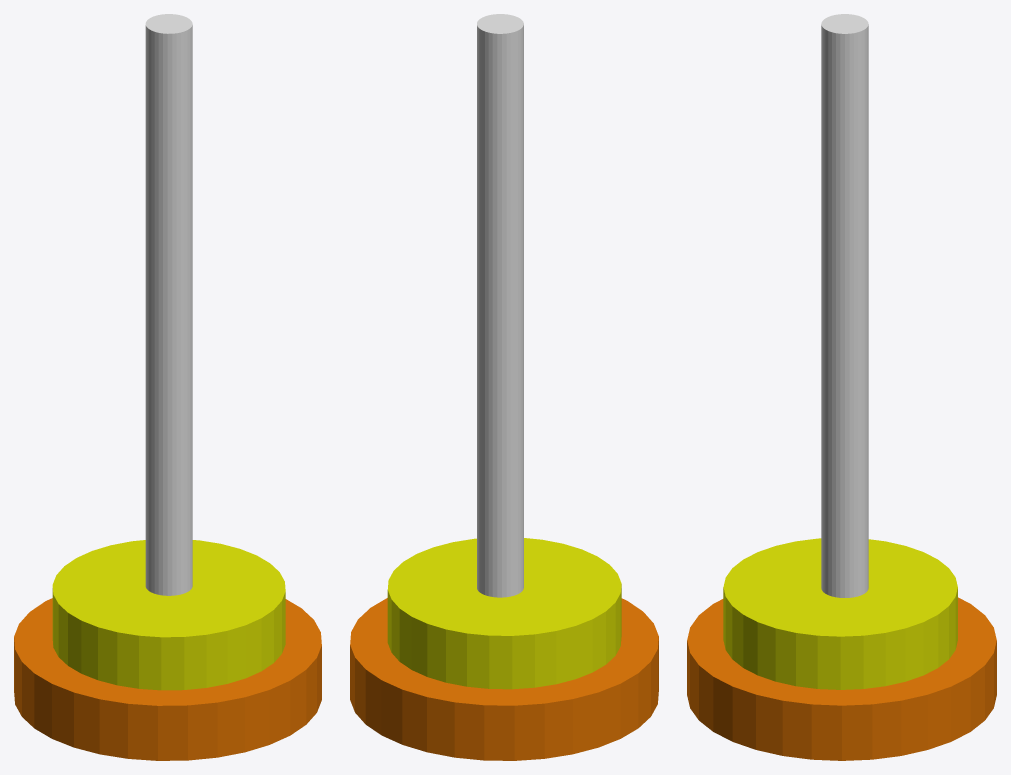
File: Towers of Hanoi 2 ring second third.fbx
The picture shows the model from 3 angles, left to right: view 1: azimuth 30°, elevation 25°; view 2: azimuth 150°, elevation 25°; view 3: azimuth 270°, elevation 25°; orthographic projection.
Parts seen in each view (by area): view 1: Cylinder.003, Cylinder, Cylinder.002; view 2: Cylinder.003, Cylinder, Cylinder.002; view 3: Cylinder.003, Cylinder, Cylinder.002.
Part boxes in pixels (<box>): Cylinder.003: <box>52,540,285,690</box>; Cylinder: <box>145,14,192,595</box>; Cylinder.002: <box>14,598,321,760</box>; Cylinder.003: <box>387,538,621,689</box>; Cylinder: <box>477,14,523,597</box>; Cylinder.002: <box>350,598,658,760</box>; Cylinder.003: <box>723,538,957,689</box>; Cylinder: <box>821,14,868,597</box>; Cylinder.002: <box>687,597,996,760</box>.
Bounding box in the file's own units: 211 × 507 × 211.
